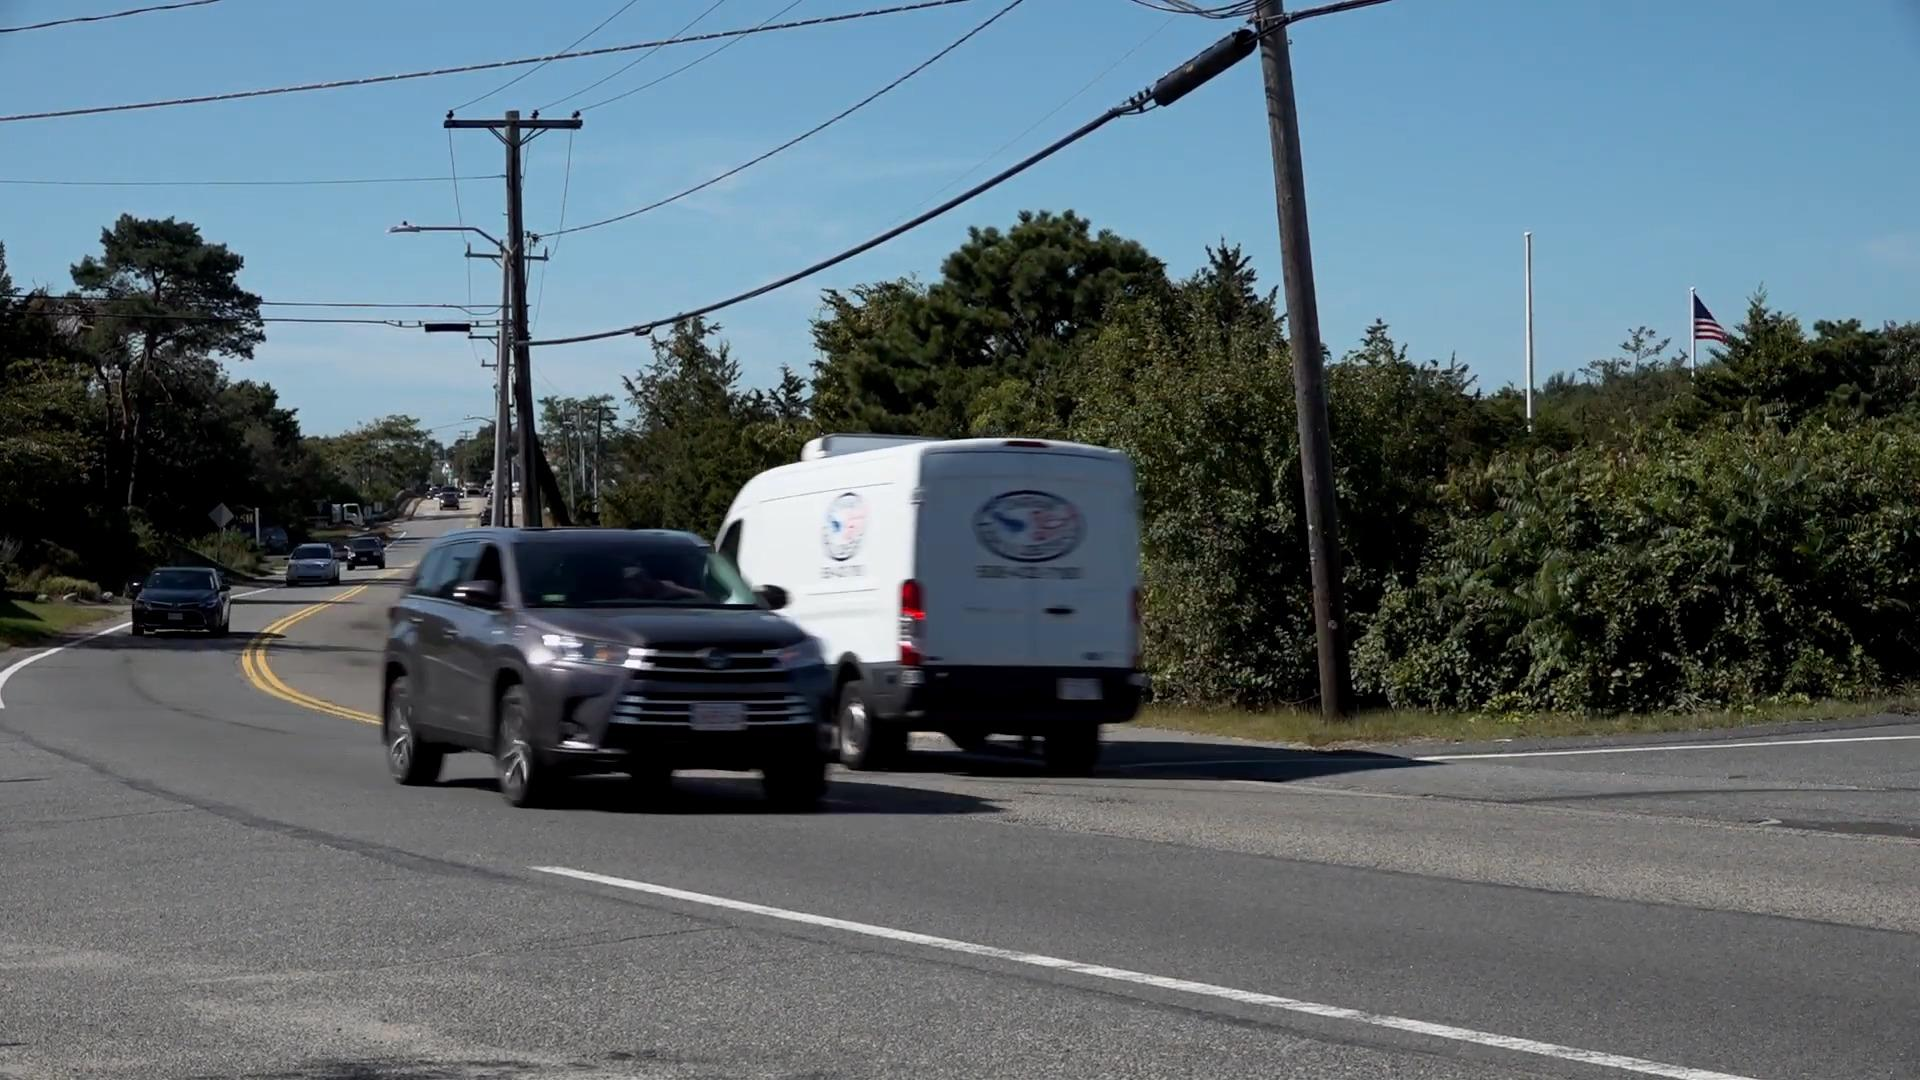suv: (381, 527, 829, 800)
